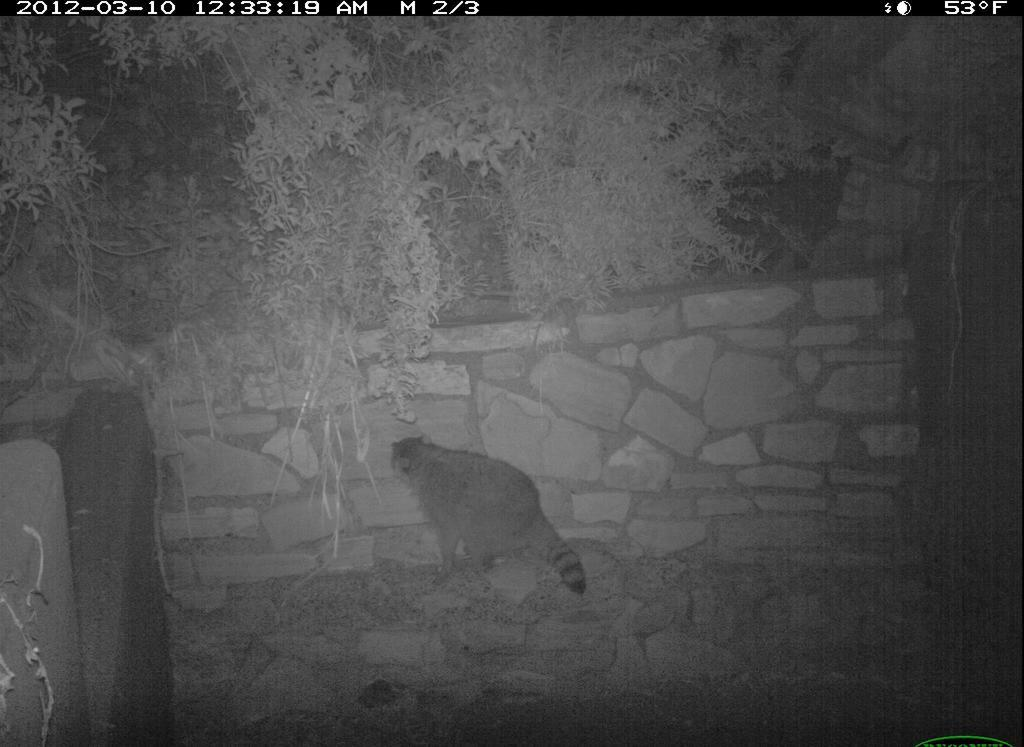raccoon: (387, 422, 606, 614)
